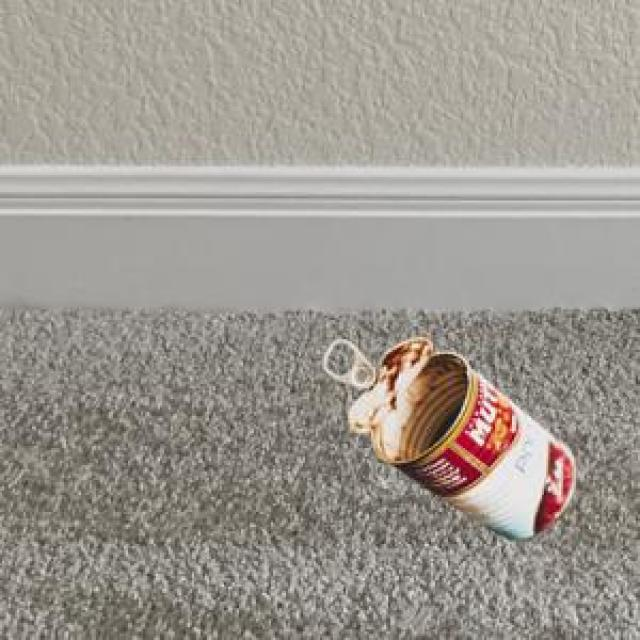logam: (319, 334, 573, 537)
